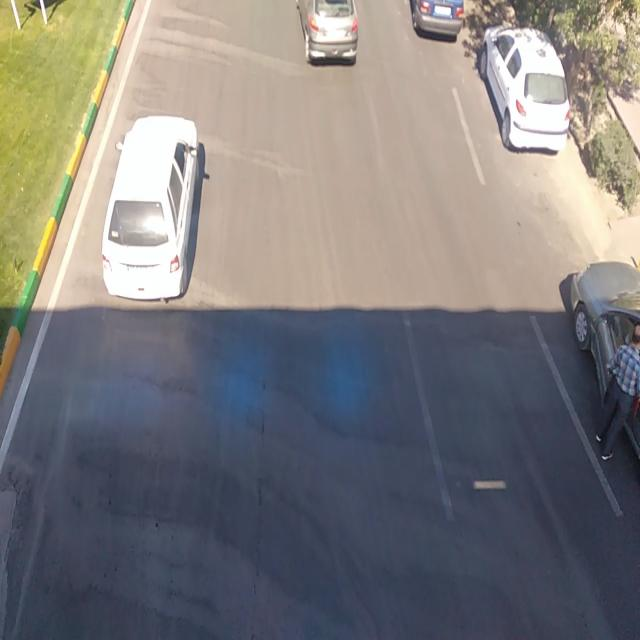car: (102, 117, 196, 302), (567, 259, 639, 463), (476, 20, 568, 153), (295, 3, 361, 70)
